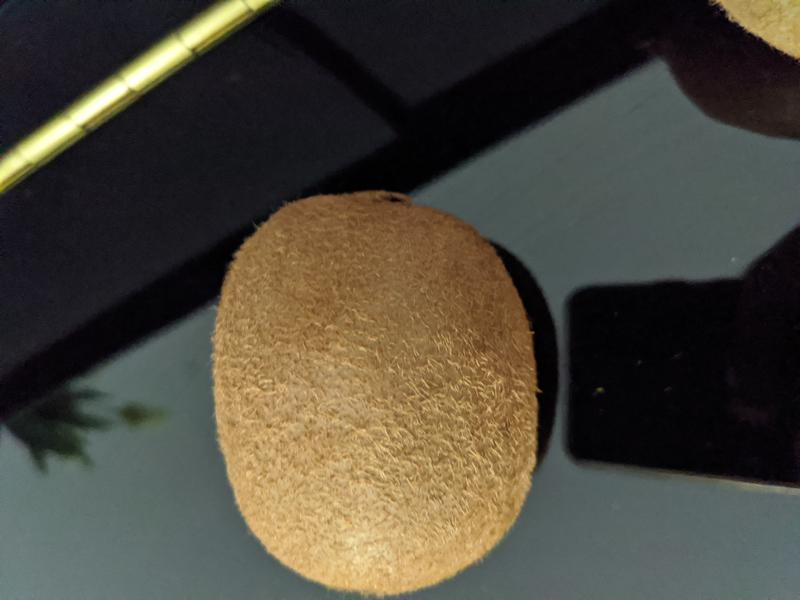kiwi: (210, 192, 540, 595)
